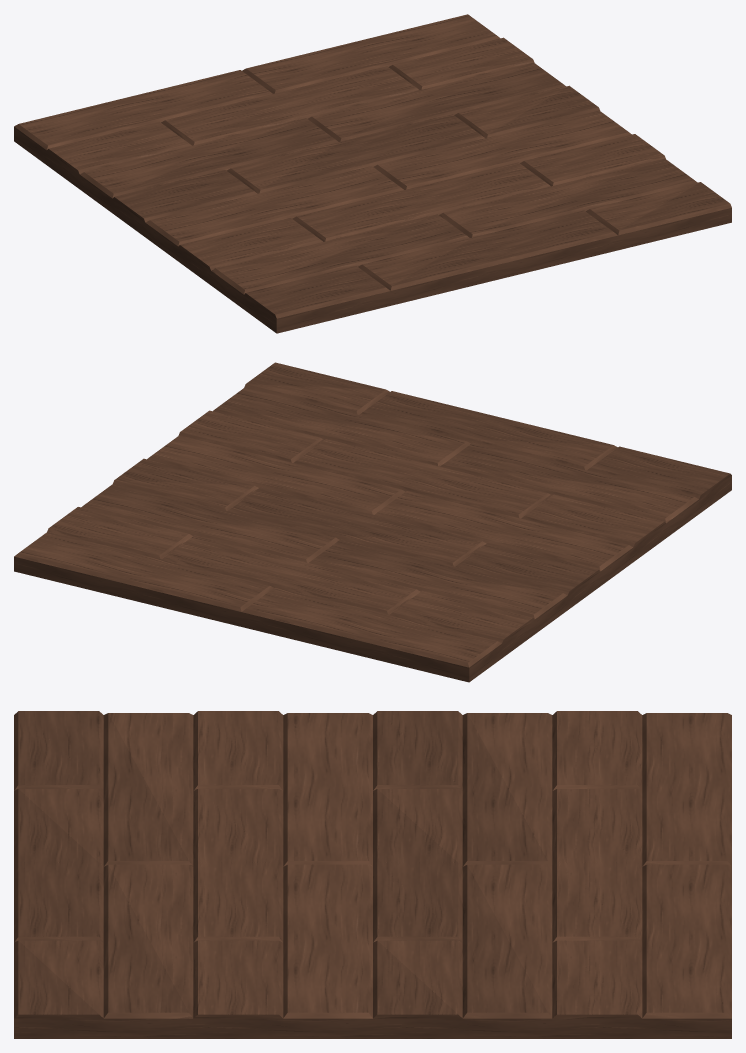
Rendered from floor_wood_large.gltf.
3 views of the same model, one above another, from view 1: azimuth 30°, elevation 25°; view 2: azimuth 150°, elevation 25°; view 3: azimuth 270°, elevation 25° (orthographic). The views are drawn at different scales.
Visible parts, largest first — view 1: floor_wood_large; view 2: floor_wood_large; view 3: floor_wood_large.
Boxes of the visible parts, box(x1,y1,x2,y2) form: floor_wood_large: box(14, 14, 731, 333); floor_wood_large: box(14, 362, 731, 682); floor_wood_large: box(14, 711, 731, 1038).
Size of the model in its own units: 4 by 0.15 by 4.
Materials: 2 (2 with a texture image).
